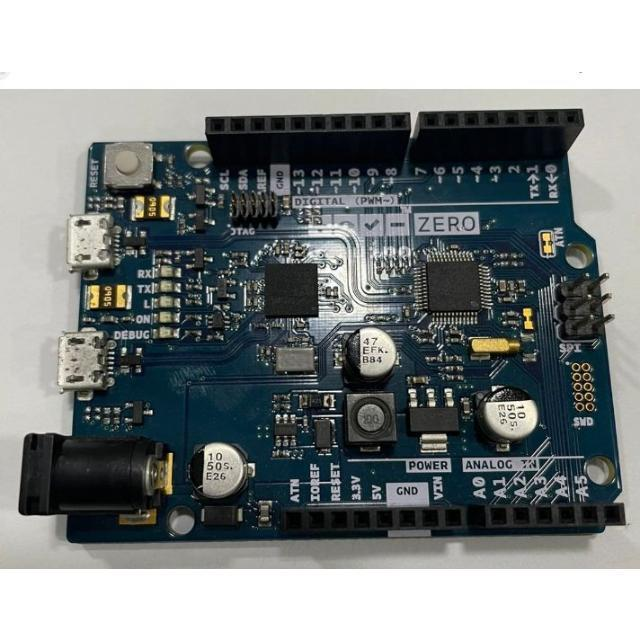Arduino-Zero: (20, 108, 624, 544)
